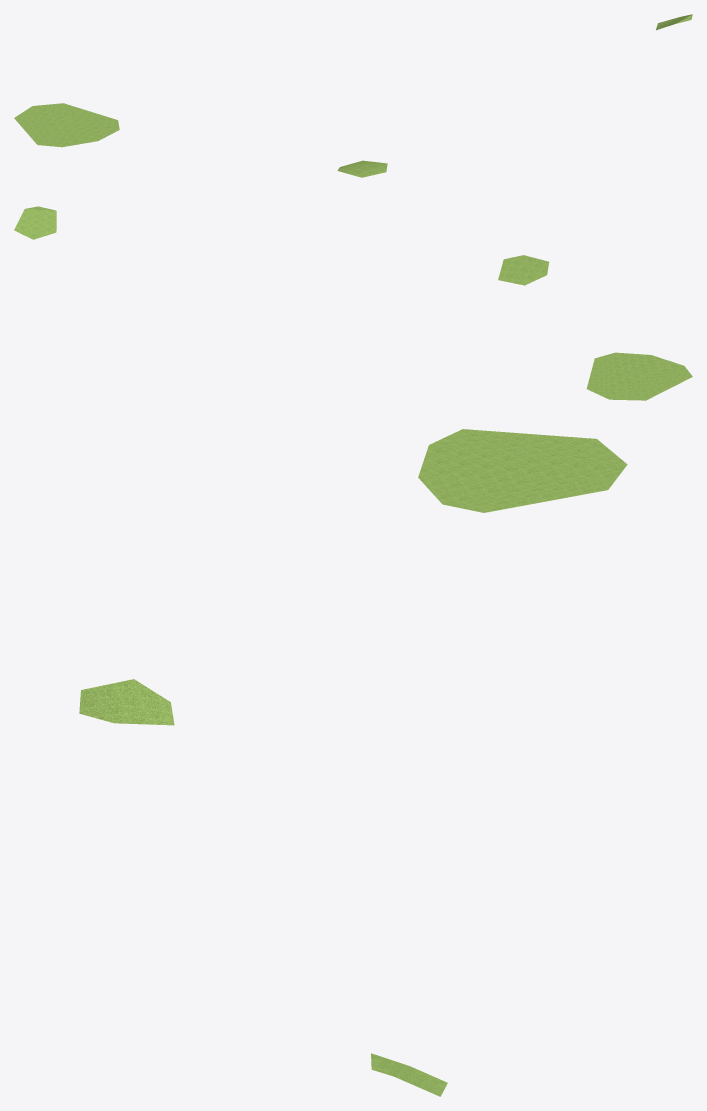
The model's file is kd_stage_1366d7_14_0.glb.
3 renders of one model, top to bottom at view 1: azimuth 30°, elevation 25°; view 2: azimuth 150°, elevation 25°; view 3: azimuth 270°, elevation 25°, orthographic. The views are drawn at different scales.
Visible parts, largest first — view 1: kd_stage_1366d7_14_0; view 2: kd_stage_1366d7_14_0; view 3: kd_stage_1366d7_14_0.
Part boxes in pixels (left/top/right/bottom): kd_stage_1366d7_14_0: left=14, top=14, right=692, bottom=177; kd_stage_1366d7_14_0: left=14, top=206, right=692, bottom=400; kd_stage_1366d7_14_0: left=79, top=429, right=627, bottom=1096.
Size of the model in its own units: 73.32 by 2.84 by 27.27.
1 material, 1 textured.
